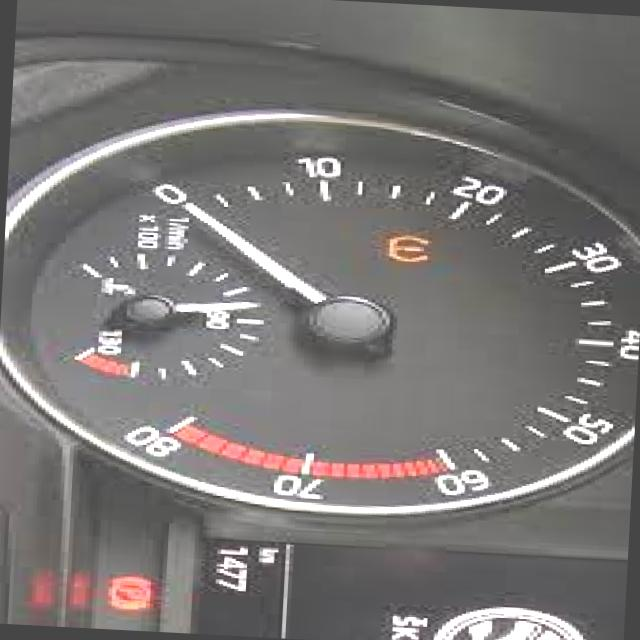kontrolka: (377, 229, 444, 269)
